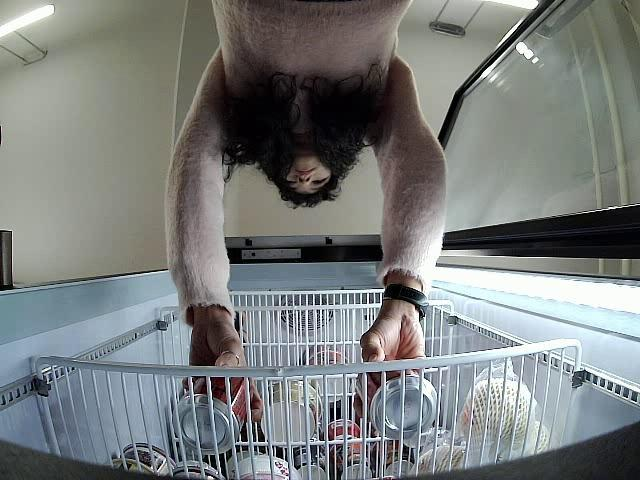11_cocaColaZero: (354, 356, 440, 442), (174, 376, 254, 455)
